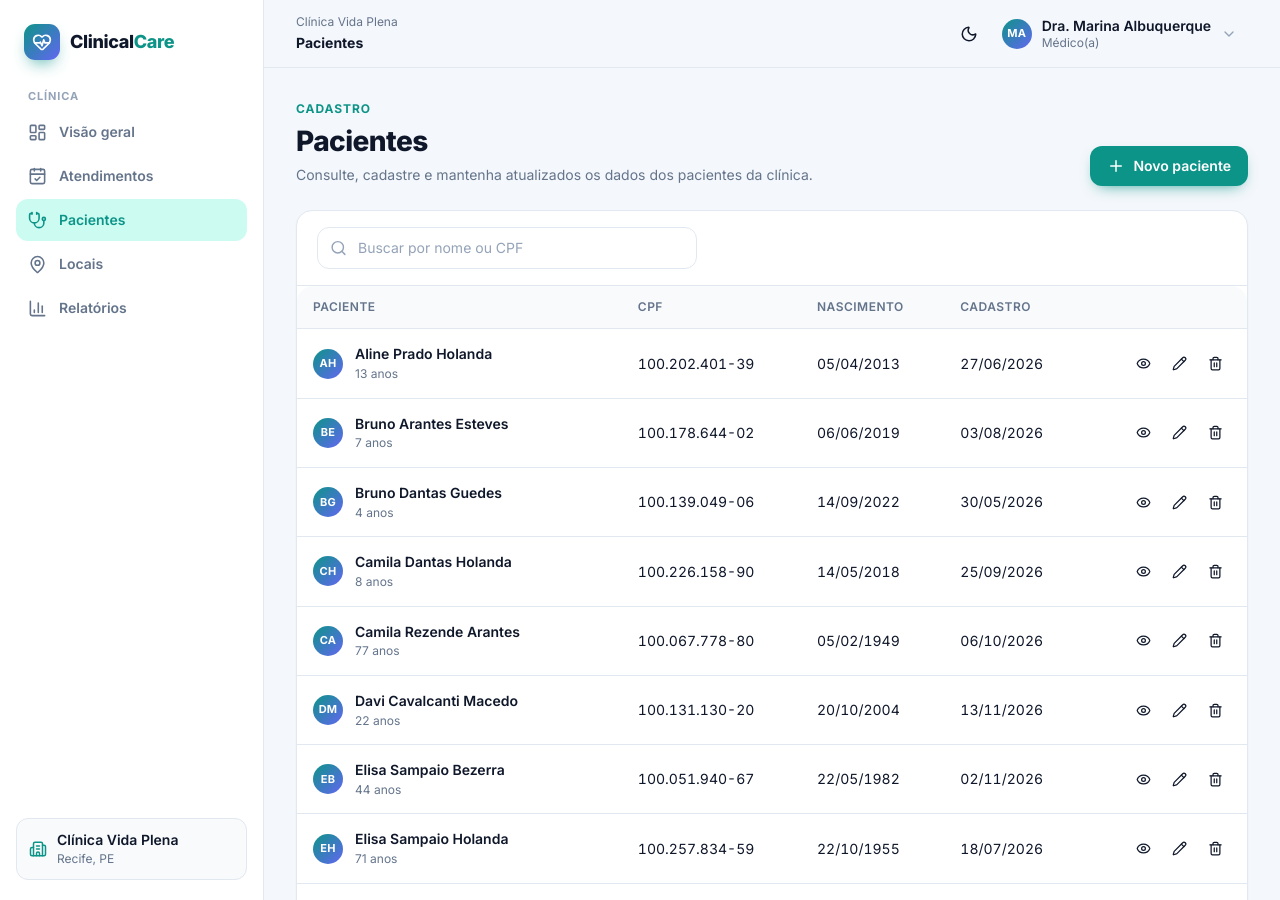
Test case: cache de consultas › reabre a lista de pacientes sem o esqueleto de carregamento
This screenshot has width=1280, height=900.
Click the link "Atendimentos" at (91, 176), box [28,166,153,186]
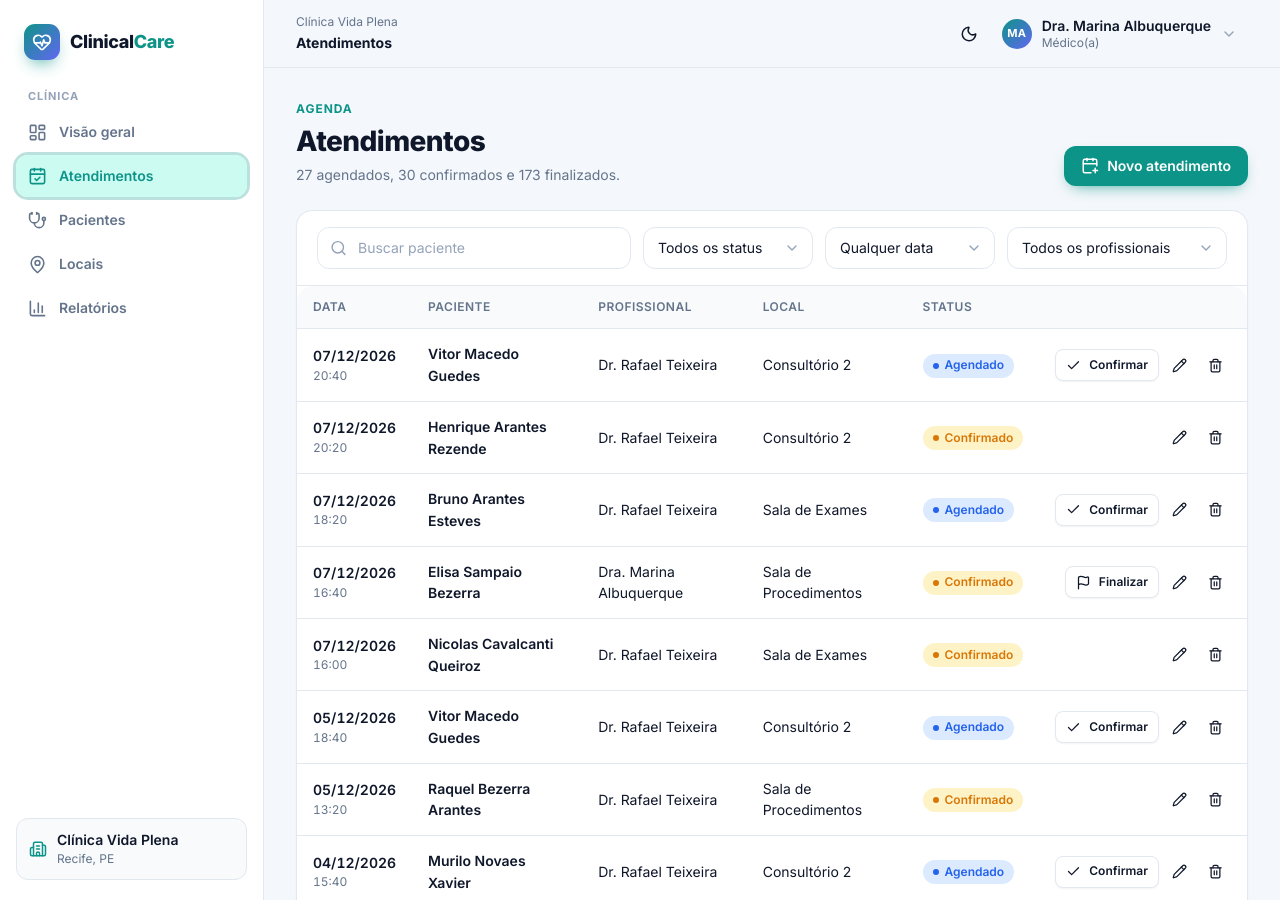
Now the heading "Atendimentos" is shown, box [296,124,485,158]
Click the link "Pacientes" at (77, 220), box [28,210,125,230]
(page scrolled)
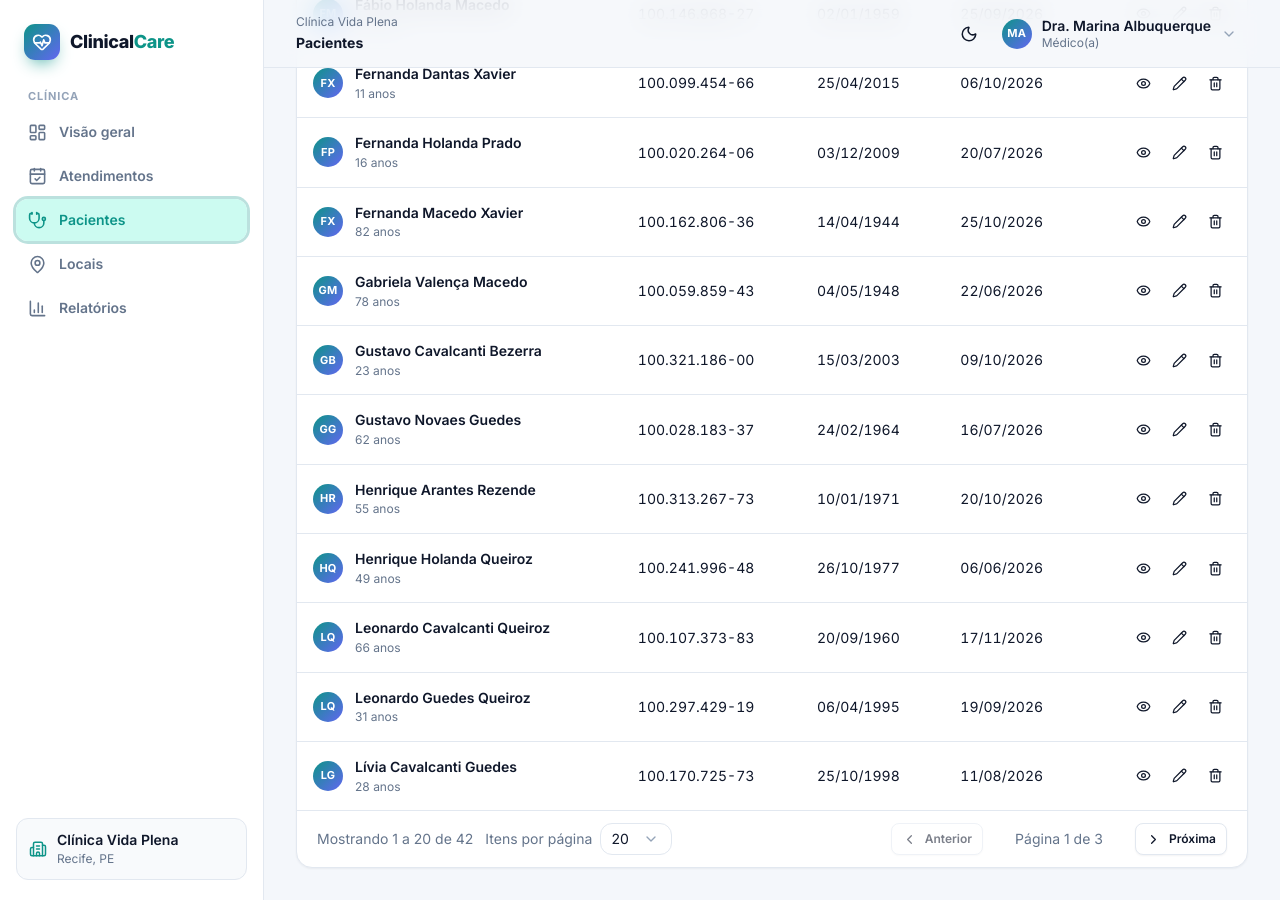
Now the text "Mostrando 1 a 20 de 42" is shown, box [317,828,473,850]
